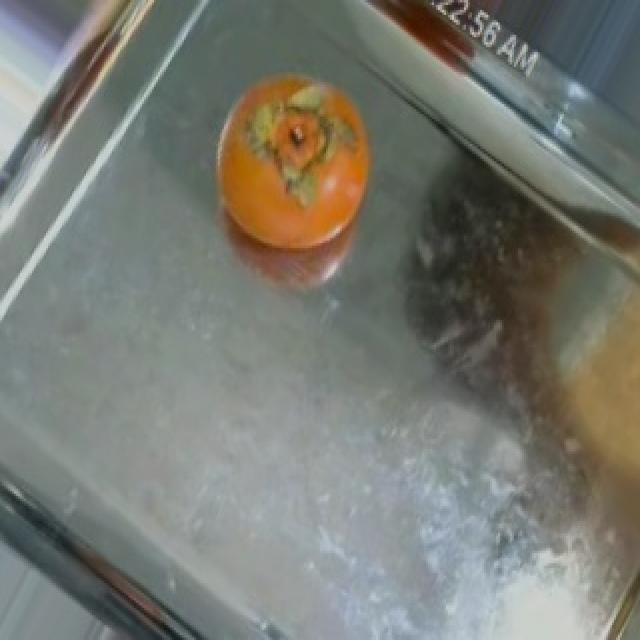Fruit: (196, 55, 396, 318)
